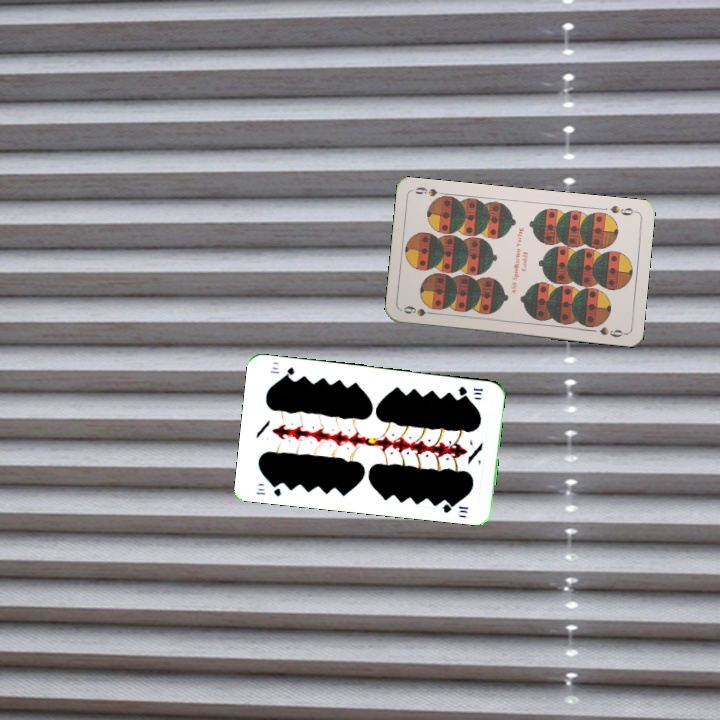G10: (251, 479, 284, 499), (454, 382, 486, 398)
S9: (400, 302, 440, 319), (606, 201, 639, 218)
